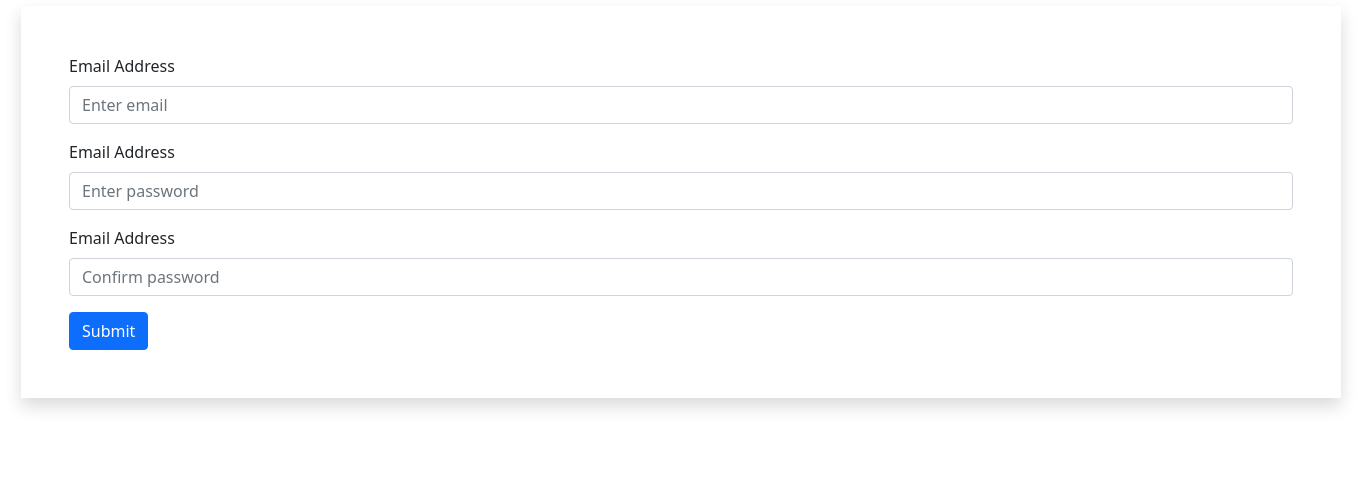
it: testing app component › should show password error message on weak password
Type "1234" into the password field with test id "form-input-password" at x=681, y=191, box [69,172,1293,210]
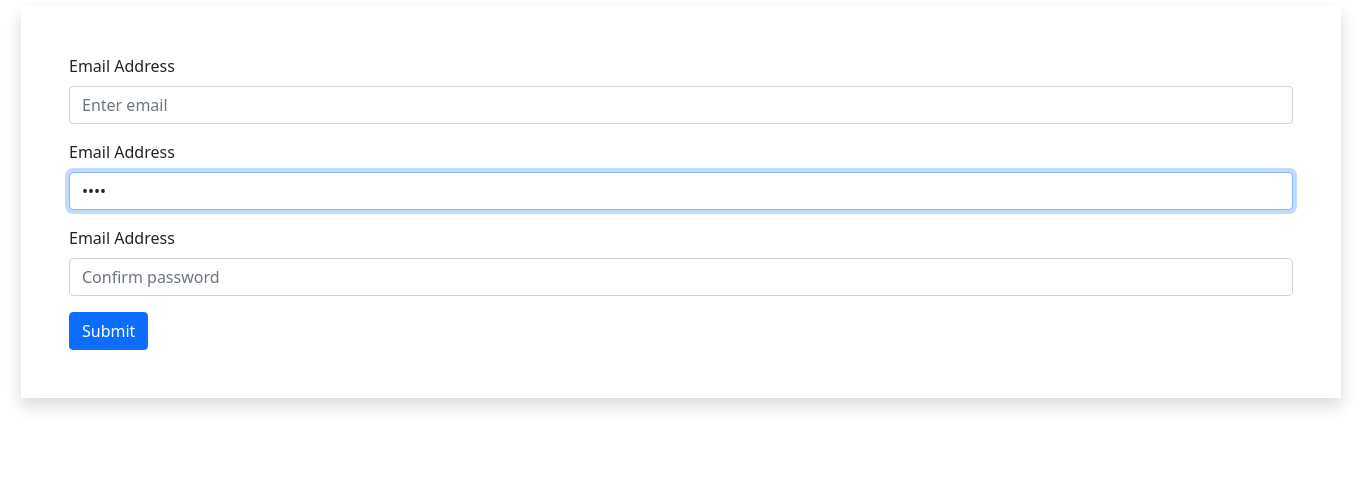
Click the button with test id "form-submit-btn" at x=109, y=331, box [69,312,148,350]
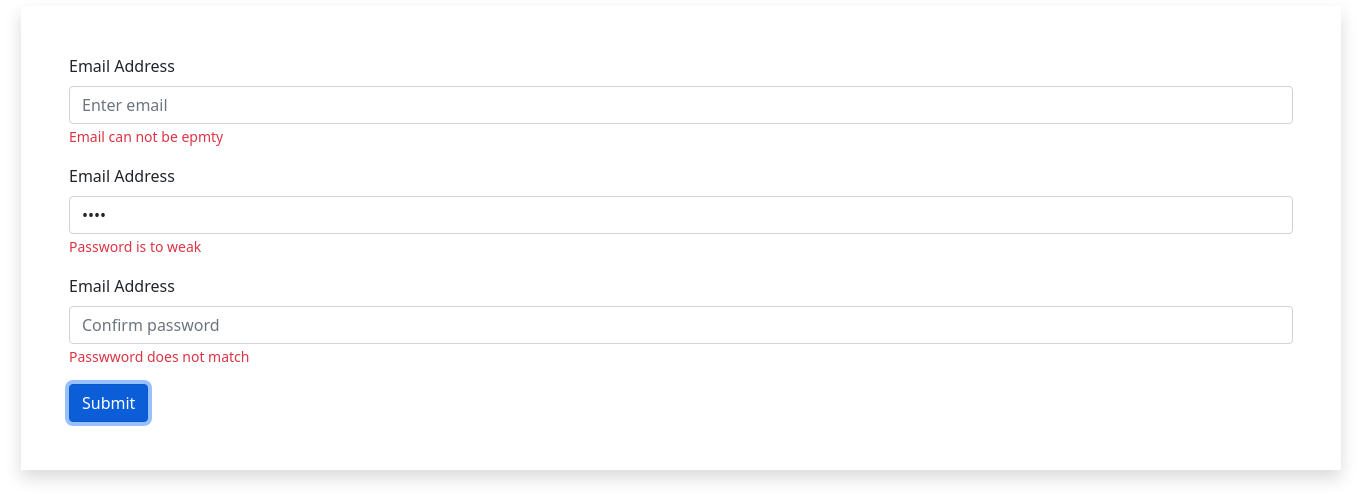
Check: the text "Password is to weak" is shown, box [69,237,201,256]
